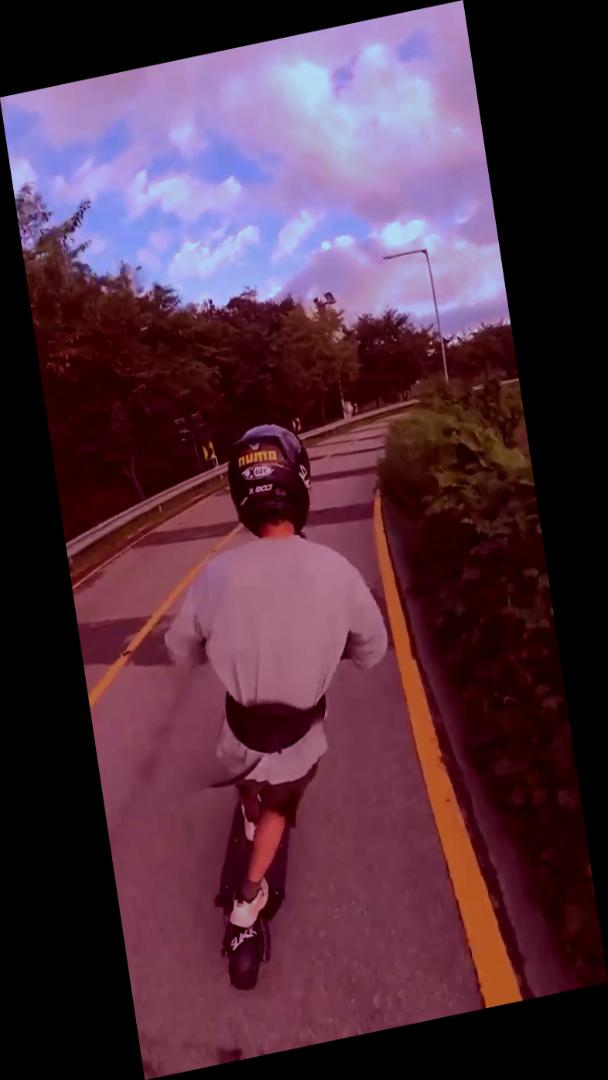helmet: (132, 399, 439, 1003)
